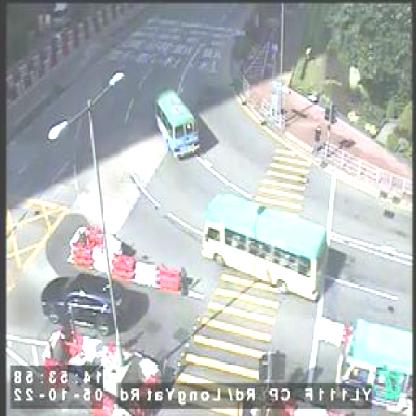Car: (43, 272, 125, 331)
Minibus: (202, 194, 327, 300), (337, 317, 412, 408), (156, 88, 202, 160), (328, 298, 330, 303)
